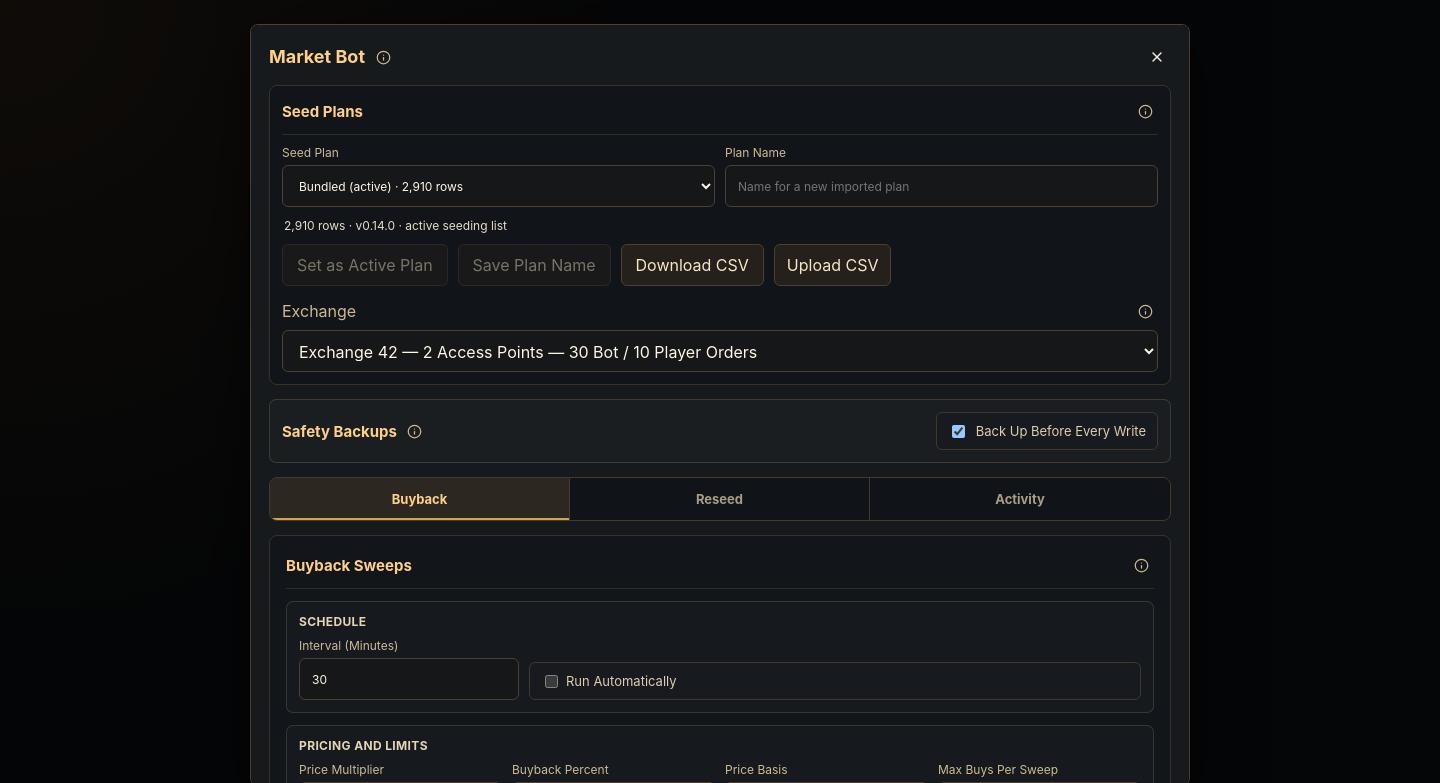
Test: MarketBotOverlay › shows safety backups on by default and disables them only after confirming, with the server phrase
expect the text "without a restore point" is not shown: met
What coordinates should you click on to do the following:
click the checkbox named "Back Up the Database Before Every Write"
I would click on:
 (958, 431)
Its box is [952,425,965,438].
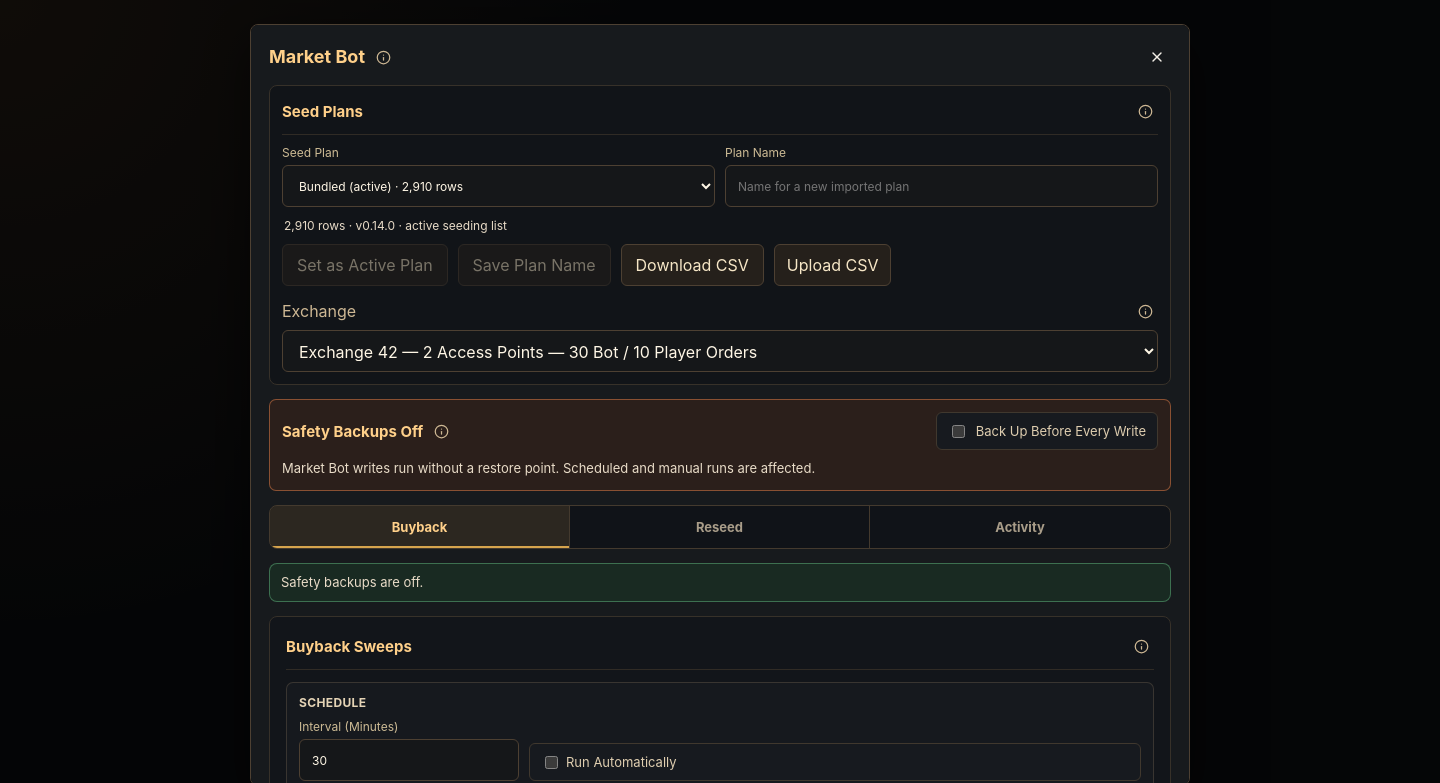
expect the checkbox named "Back Up the Database Before Every Write" is not checked: met, box [952,425,965,438]
expect the text "without a restore point" is shown: met, box [282,460,815,476]
